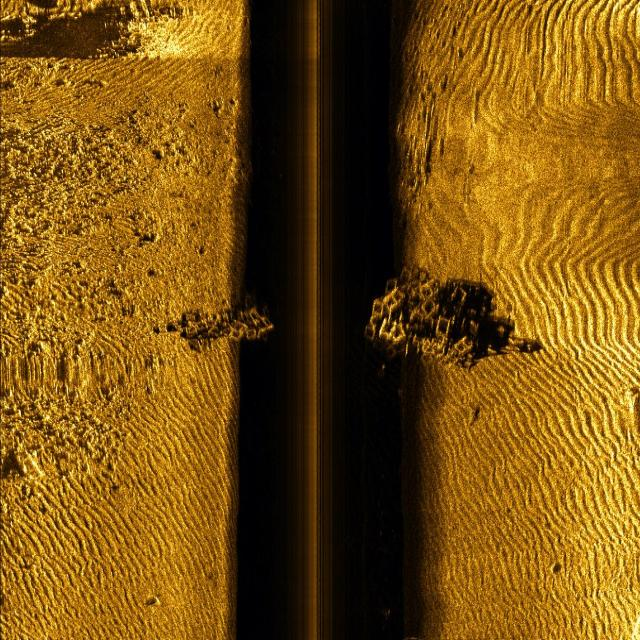artificial reef: (354, 256, 492, 369), (188, 296, 281, 346)
